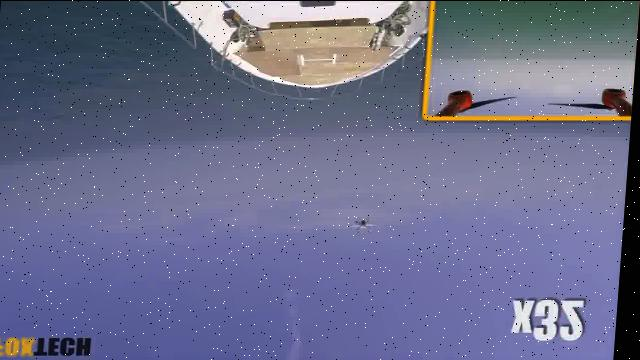drone: (345, 215, 382, 237)
